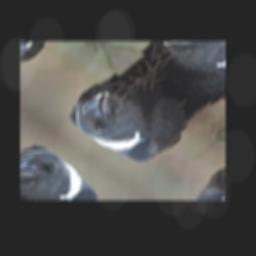Crow: (57, 60, 203, 175)
